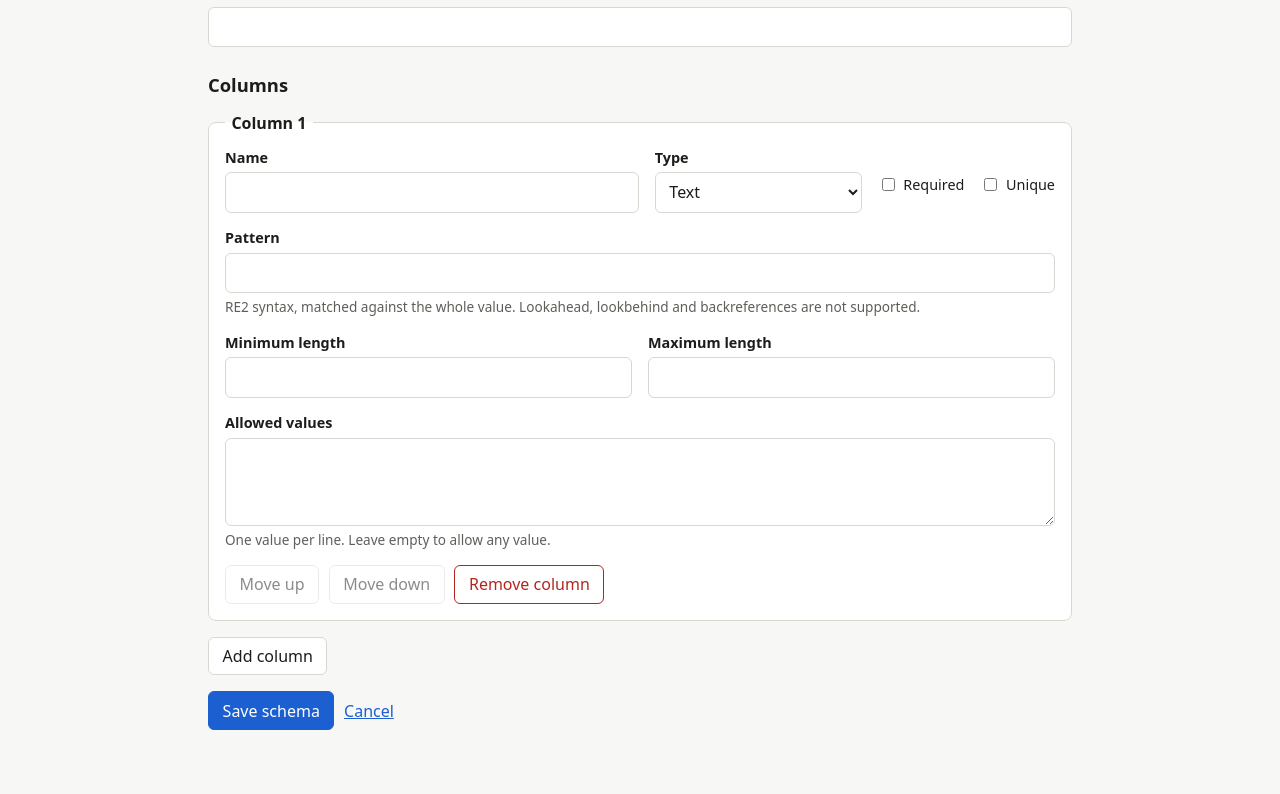
SchemaEditor: creating (FR-28, AC-38) › lets the user cancel back to the list without saving
(page scrolled)
Step 1. Click the link "Cancel" → [369, 711], box [344,699,394,723]
(page scrolled)
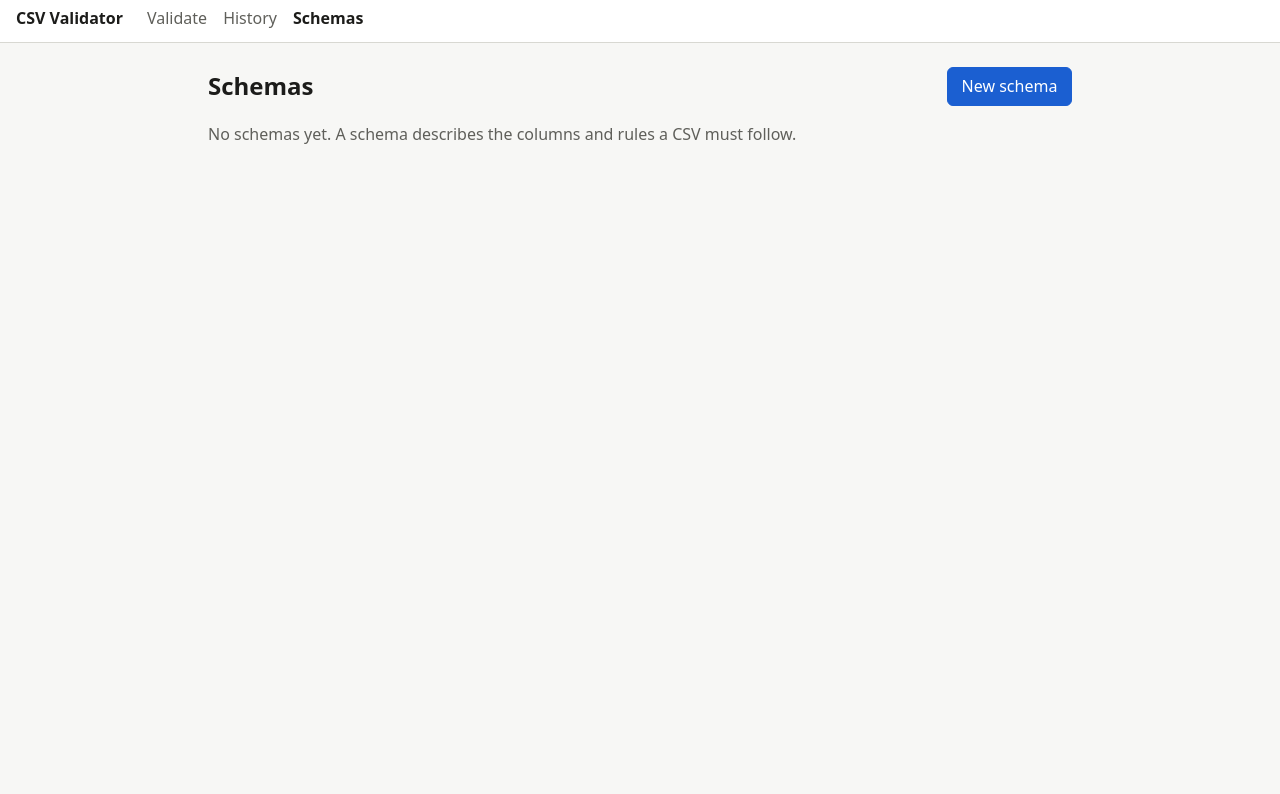
Expected: the heading "Schemas" is shown, [208,68,314,104]
